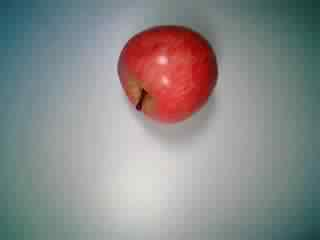apple: (114, 23, 218, 124)
